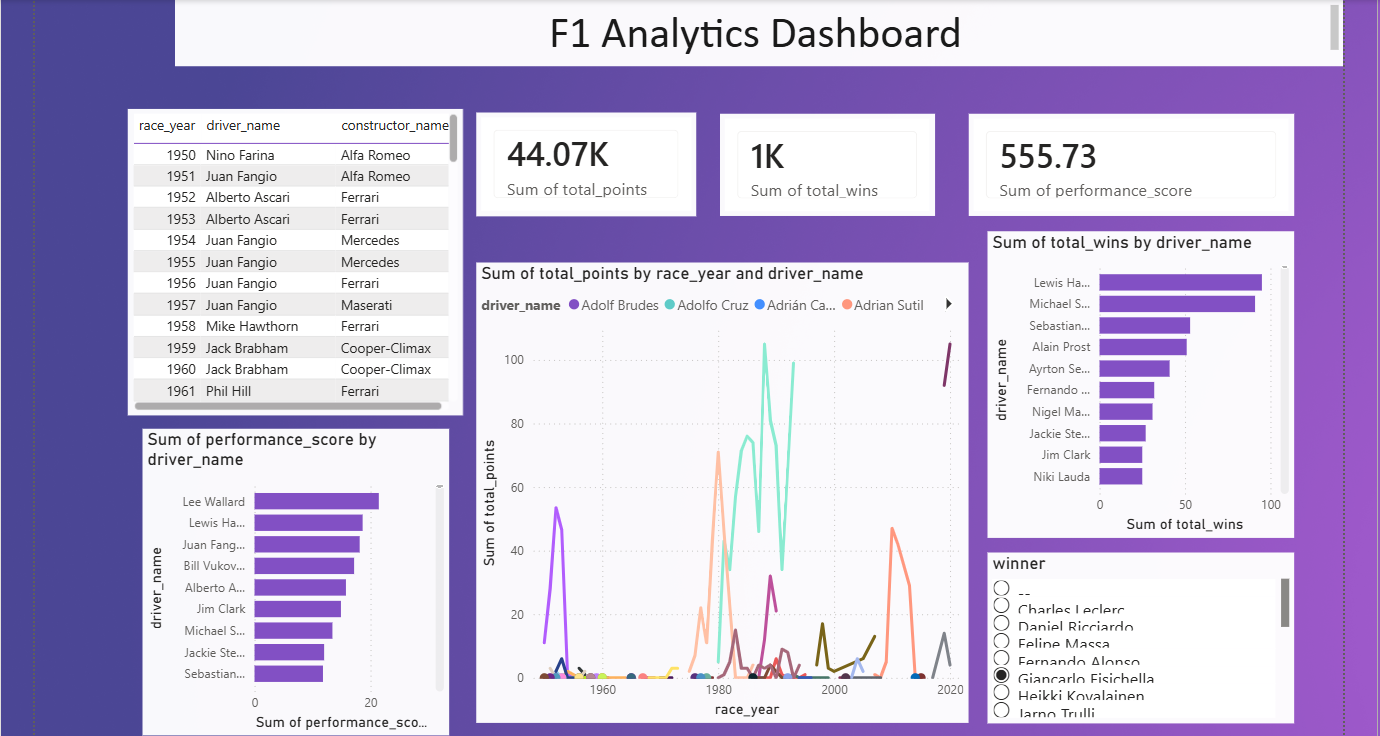

Layout of this report page (visuals, bound fields, positions):
{"tool":"powerbi","page":{"name":"Page 1","canvas":[1280,720],"ordinal":0},"visuals":[{"type":"clusteredBarChart","fields":{"Category":["driver_performance.driver_name"],"Y":["Sum(driver_performance.total_wins)"]},"box":[931.7,226.7,300,300],"z":0},{"type":"lineChart","fields":{"Category":["driver_ranking_byyear.race_year"],"Series":["driver_ranking_byyear.driver_name"],"Y":["Sum(driver_ranking_byyear.total_points)"]},"box":[431.7,256.7,481.7,450],"z":1000},{"type":"clusteredBarChart","fields":{"Category":["performance_score.driver_name"],"Y":["Sum(performance_score.performance_score)"]},"box":[105,420,300,300],"z":2000},{"type":"tableEx","fields":{"Values":["Championship_winner (2).race_year","Championship_winner (2).driver_name","Championship_winner (2).constructor_name"]},"box":[90,106.7,328.3,300],"z":3000},{"type":"textbox","box":[136.7,0,1143.3,65],"z":4000},{"type":"cardVisual","fields":{"Data":["Sum(performance_score.total_points)"]},"box":[431.7,110,215,101.7],"z":5000},{"type":"cardVisual","fields":{"Data":["Sum(driver_performance.total_wins)"]},"box":[670,111.7,210,100],"z":6000},{"type":"cardVisual","fields":{"Data":["Sum(performance_score.performance_score)"]},"box":[913.3,111.7,318.3,100],"z":7000},{"type":"listSlicer","fields":{"Values":["race_summary.winner"]},"box":[932,540,300,167],"z":8000}]}

Visuals, with their boxes in screenshot pixels (x1, y1, x2, y2):
clusteredBarChart - driver_performance.driver_name x Sum(driver_performance.total_wins): x1=983 y1=229 x2=1286 y2=531
lineChart - driver_ranking_byyear.race_year x driver_ranking_byyear.driver_name: x1=479 y1=259 x2=965 y2=713
clusteredBarChart - performance_score.driver_name x Sum(performance_score.performance_score): x1=149 y1=424 x2=452 y2=727
tableEx - Championship_winner (2).race_year x Championship_winner (2).driver_name: x1=134 y1=108 x2=465 y2=410
textbox: x1=181 y1=0 x2=1335 y2=66
cardVisual - Sum(performance_score.total_points): x1=479 y1=111 x2=696 y2=214
cardVisual - Sum(driver_performance.total_wins): x1=719 y1=113 x2=931 y2=214
cardVisual - Sum(performance_score.performance_score): x1=965 y1=113 x2=1286 y2=214
listSlicer - race_summary.winner: x1=984 y1=545 x2=1286 y2=713
